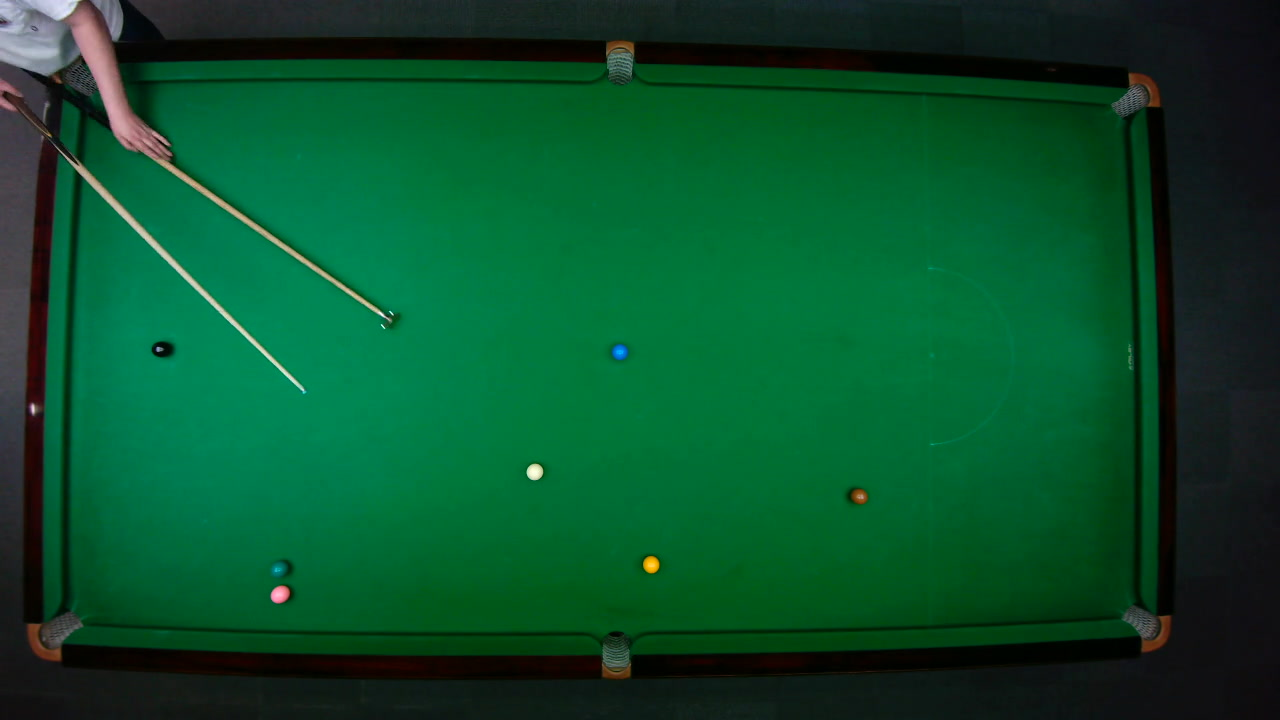bag: (25, 610, 83, 661), (1119, 603, 1171, 651), (1108, 71, 1161, 118), (601, 629, 630, 680), (605, 38, 633, 85)
black: (149, 340, 171, 357)
blue: (610, 342, 628, 360)
brown: (848, 487, 868, 504)
cue: (0, 87, 320, 403)
green: (269, 559, 289, 576)
pink: (269, 583, 290, 604)
white: (525, 462, 543, 480)
yellow: (640, 554, 660, 573)
zone: (926, 266, 1013, 445)
